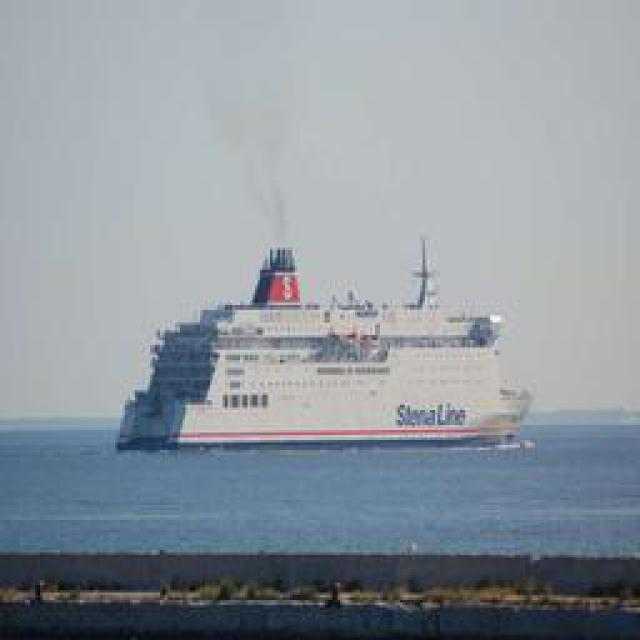Ship: (109, 239, 534, 454)
